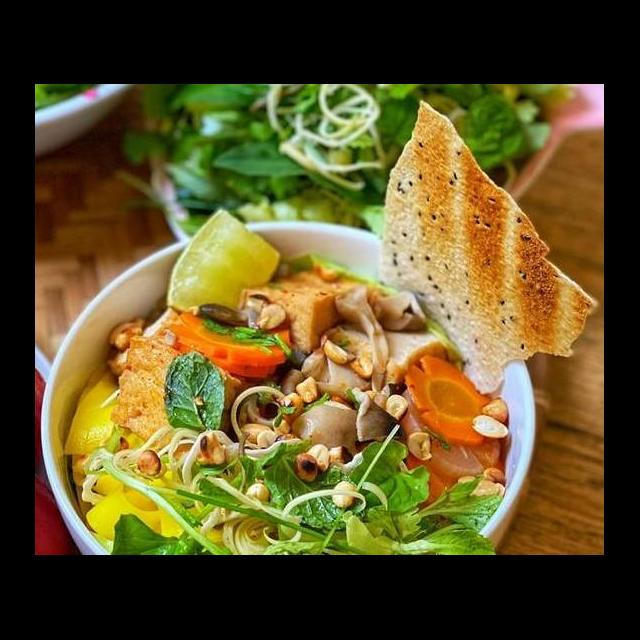banh da: (374, 96, 602, 402)
dau hu: (232, 268, 374, 358)
mi: (58, 368, 230, 556)
